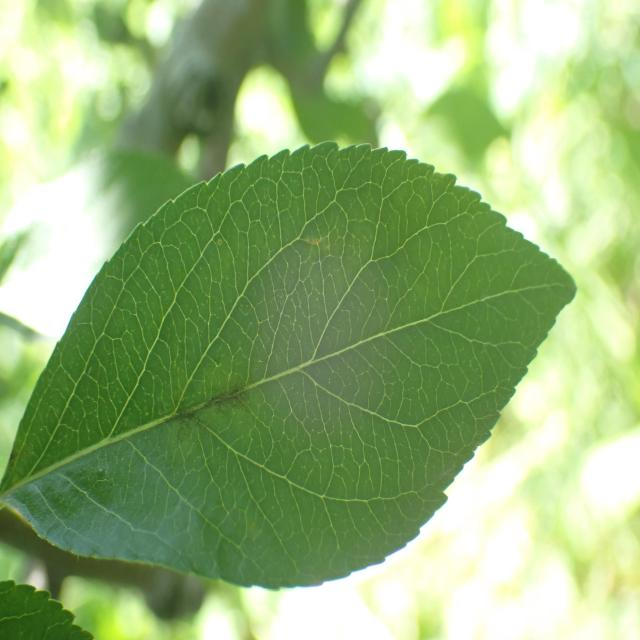scab: (66, 226, 490, 514)
